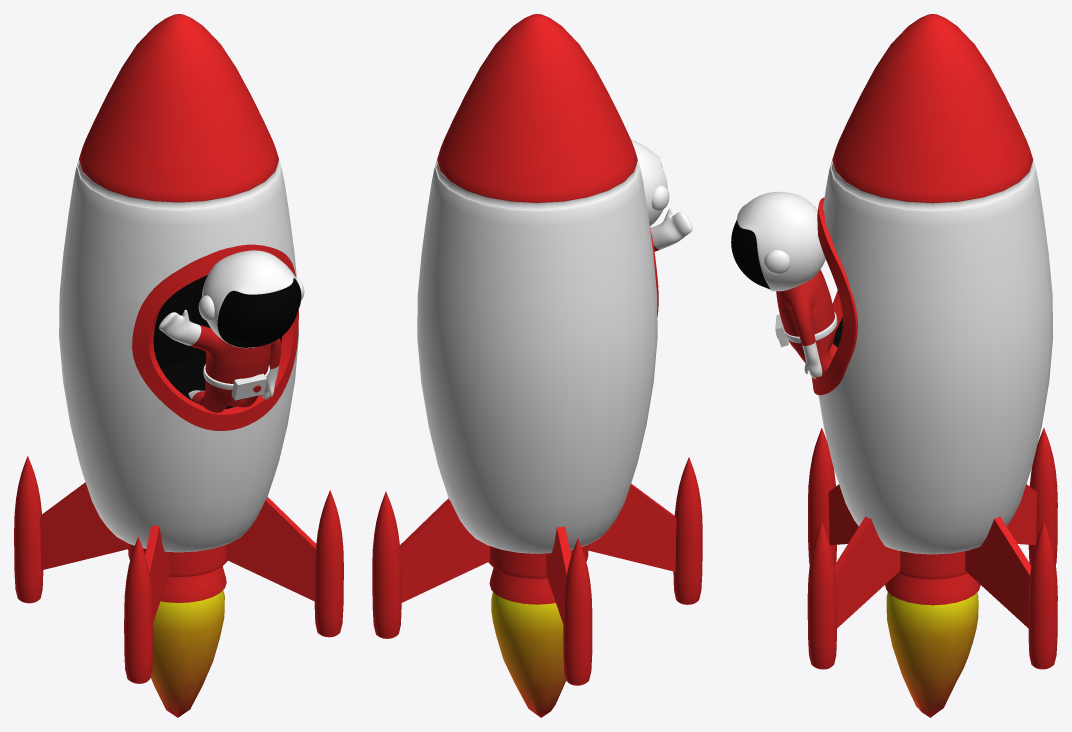
The model's file is rocket-upright.glb.
3 views of the same model, side by side, from view 1: azimuth 30°, elevation 25°; view 2: azimuth 150°, elevation 25°; view 3: azimuth 270°, elevation 25° (orthographic).
Parts seen in each view (by area): view 1: Circle.035, Plane.009, Circle.037, Roundcube.040, Circle.036, Icosphere.002, Roundcube.042, Circle.034, Plane.008, Roundcube.044, Cube.003; view 2: Circle.035, Plane.008, Circle.034, Icosphere.002, Circle.036, Plane.009, Roundcube.040, Roundcube.042; view 3: Circle.035, Icosphere.002, Roundcube.040, Circle.036, Circle.034, Plane.009, Plane.008, Roundcube.042, Circle.037, Roundcube.044, Roundcube.041.
Boxes of the visible parts, bbox=[...] form: Circle.035: bbox=[59, 14, 298, 602]; Plane.009: bbox=[40, 482, 316, 601]; Circle.037: bbox=[132, 244, 298, 430]; Roundcube.040: bbox=[201, 250, 301, 348]; Circle.036: bbox=[14, 456, 343, 637]; Icosphere.002: bbox=[150, 590, 224, 717]; Roundcube.042: bbox=[159, 309, 281, 399]; Circle.034: bbox=[124, 537, 153, 683]; Plane.008: bbox=[145, 525, 169, 622]; Roundcube.044: bbox=[188, 380, 258, 412]; Cube.003: bbox=[231, 373, 266, 400]; Circle.035: bbox=[417, 14, 657, 604]; Plane.008: bbox=[400, 483, 676, 602]; Circle.034: bbox=[372, 457, 702, 638]; Icosphere.002: bbox=[491, 591, 565, 717]; Circle.036: bbox=[563, 538, 592, 685]; Plane.009: bbox=[546, 526, 571, 623]; Roundcube.040: bbox=[631, 139, 667, 226]; Roundcube.042: bbox=[650, 208, 692, 251]; Circle.035: bbox=[818, 14, 1052, 605]; Icosphere.002: bbox=[886, 592, 978, 717]; Roundcube.040: bbox=[731, 191, 825, 291]; Circle.036: bbox=[807, 428, 1057, 669]; Circle.034: bbox=[808, 428, 1057, 669]; Plane.009: bbox=[834, 484, 1037, 628]; Plane.008: bbox=[828, 484, 1030, 628]; Roundcube.042: bbox=[776, 270, 834, 378]; Circle.037: bbox=[811, 197, 857, 395]; Roundcube.044: bbox=[788, 327, 837, 374]; Roundcube.041: bbox=[764, 250, 790, 274].
Bounding box in the file's own units: 1.05 × 3.27 × 1.38.
Materials: 7 (1 with a texture image).
